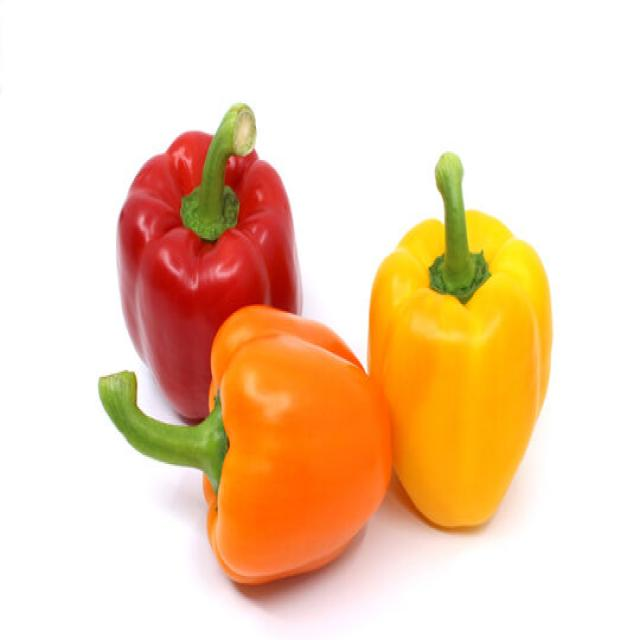Bell Pepper: (97, 302, 394, 585), (367, 149, 552, 530), (115, 100, 302, 423)
